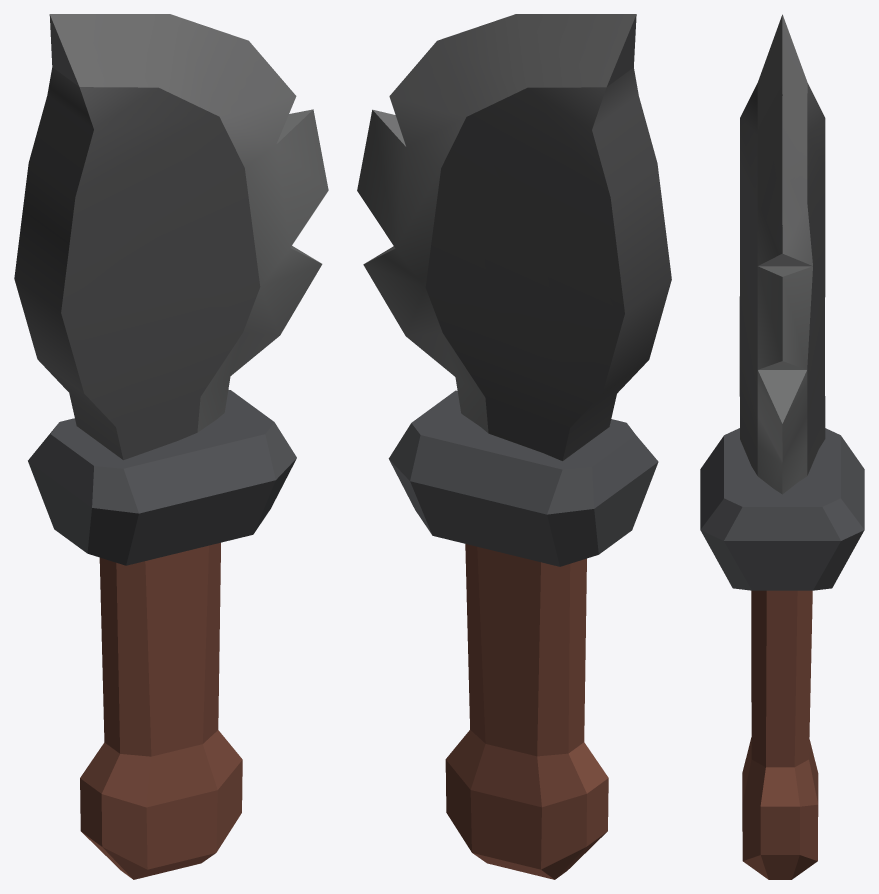
File: Wield_Gear_Left_60.fbx
3 renders of one model, left to right at view 1: azimuth 30°, elevation 25°; view 2: azimuth 150°, elevation 25°; view 3: azimuth 270°, elevation 25°, orthographic. The views are drawn at different scales.
Parts seen in each view (by area): view 1: Wield_Gear_Left_60; view 2: Wield_Gear_Left_60; view 3: Wield_Gear_Left_60.
Boxes of the visible parts, x1,y1,x2,y2 form: Wield_Gear_Left_60: (14, 14, 328, 879); Wield_Gear_Left_60: (357, 14, 671, 879); Wield_Gear_Left_60: (700, 14, 864, 879).
Bounding box in the file's own units: 22.39 × 64.64 × 12.
